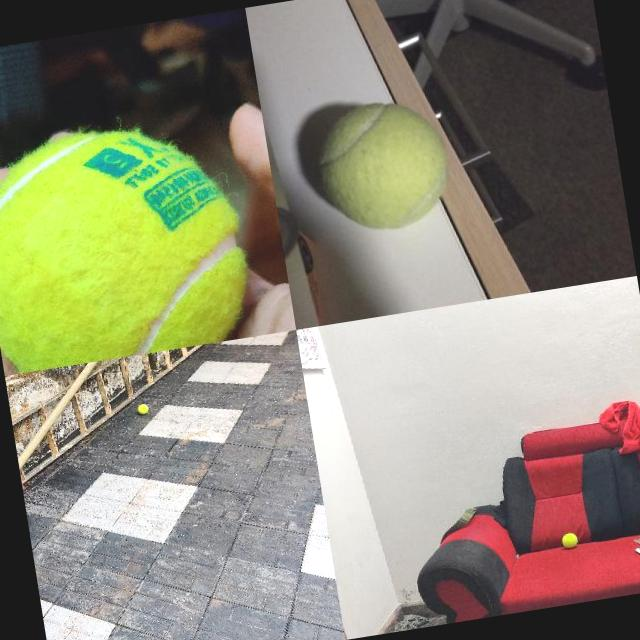Tennis Ball: (0, 112, 257, 375), (310, 92, 458, 240), (562, 532, 580, 550), (137, 402, 149, 414)
